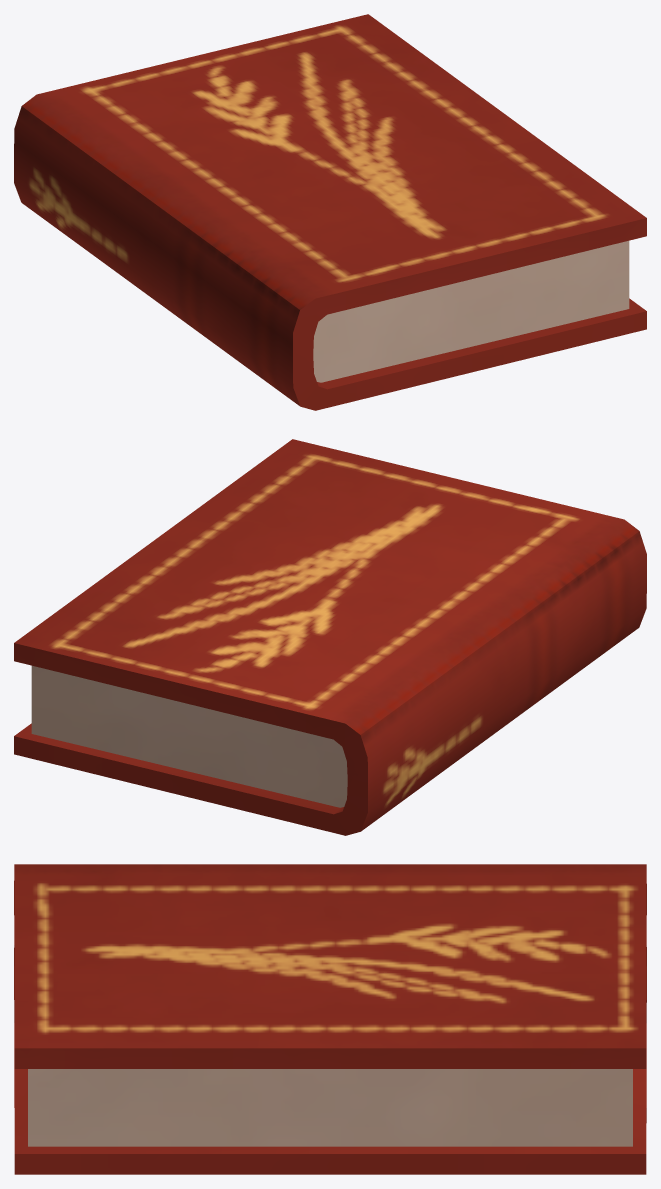
Rendered from SM_Book_03.fbx.
3 views of the same model, one above another, from view 1: azimuth 30°, elevation 25°; view 2: azimuth 150°, elevation 25°; view 3: azimuth 270°, elevation 25° (orthographic). The views are drawn at different scales.
Visible parts, largest first — view 1: SM_Book_03; view 2: SM_Book_03; view 3: SM_Book_03.
Boxes of the visible parts, left/top/right/bottom form: SM_Book_03: left=14, top=14, right=646, bottom=410; SM_Book_03: left=14, top=439, right=646, bottom=835; SM_Book_03: left=14, top=864, right=646, bottom=1174.
Bounding box in the file's own units: 15.17 × 4.59 × 20.71.
